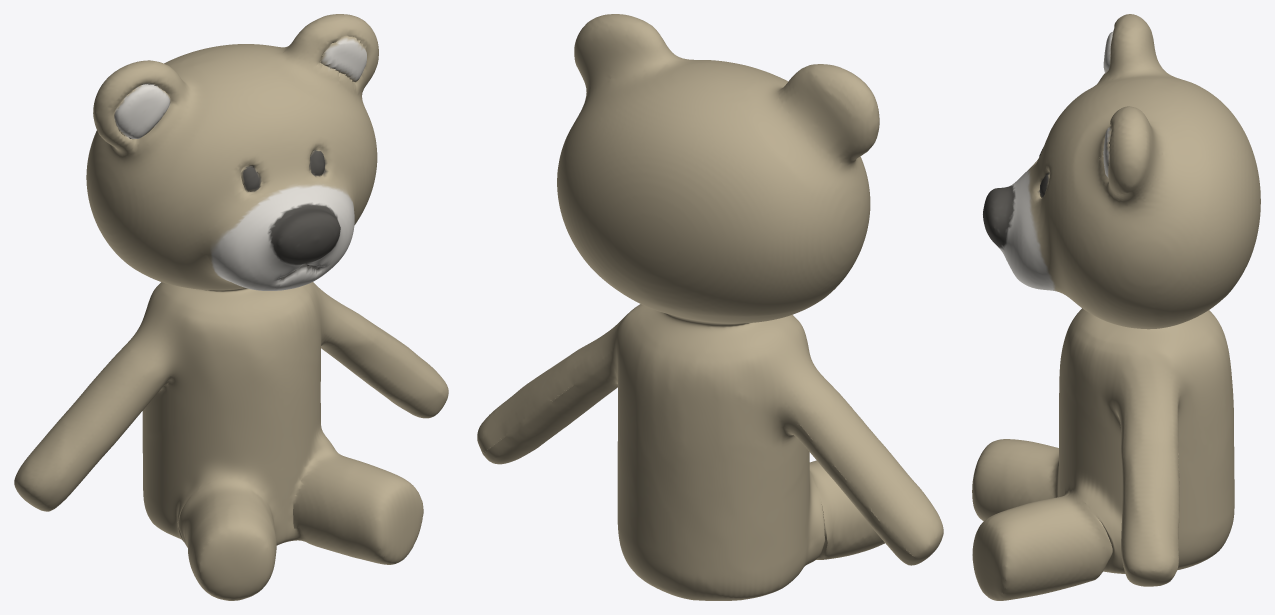
Rendered from teddy_bear_84ba3a53.glb.
3 renders of one model, left to right at view 1: azimuth 30°, elevation 25°; view 2: azimuth 150°, elevation 25°; view 3: azimuth 270°, elevation 25°, orthographic. The views are drawn at different scales.
Parts seen in each view (by area): view 1: Geode; view 2: Geode; view 3: Geode.
Boxes of the visible parts, <box> form: Geode: <box>14,14,448,600</box>; Geode: <box>477,14,943,600</box>; Geode: <box>972,14,1260,600</box>.
Bounding box in the file's own units: 78.46 × 87.66 × 46.75.
